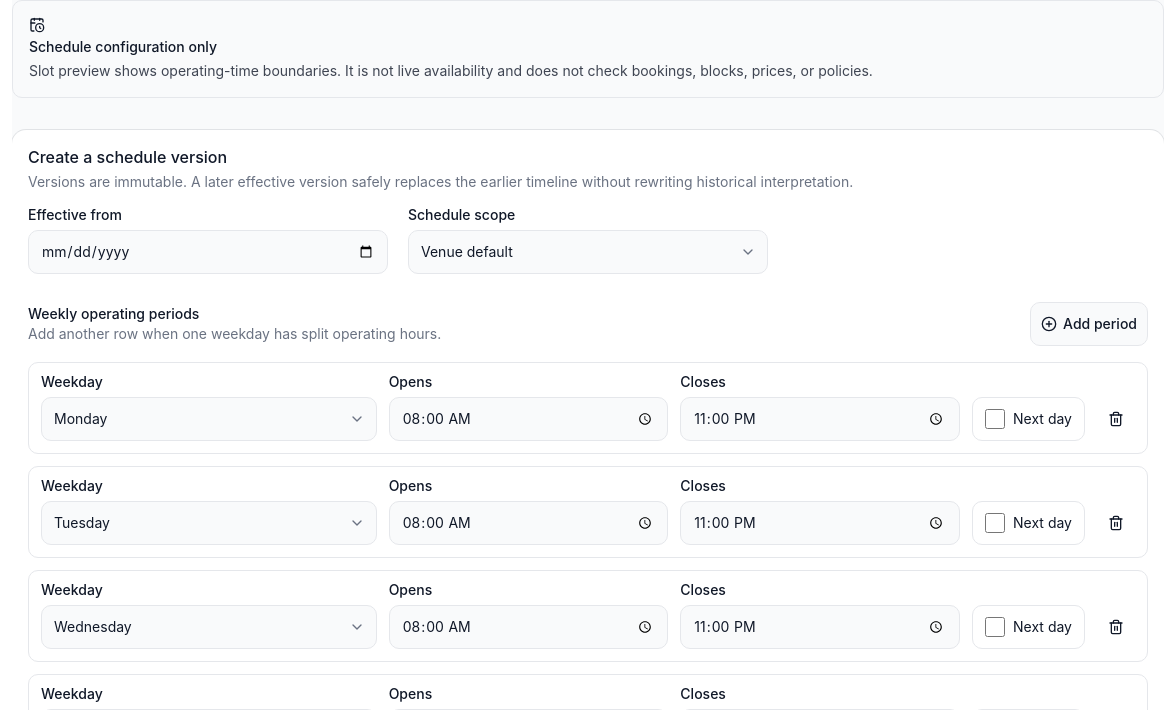
ScheduleSetup › creates an immutable schedule with a closed exception and visible result
Step 1. Type "2026-07-27" into the date field labelled "Effective from" → [208, 252], box [28,230,388,274]
(page scrolled)
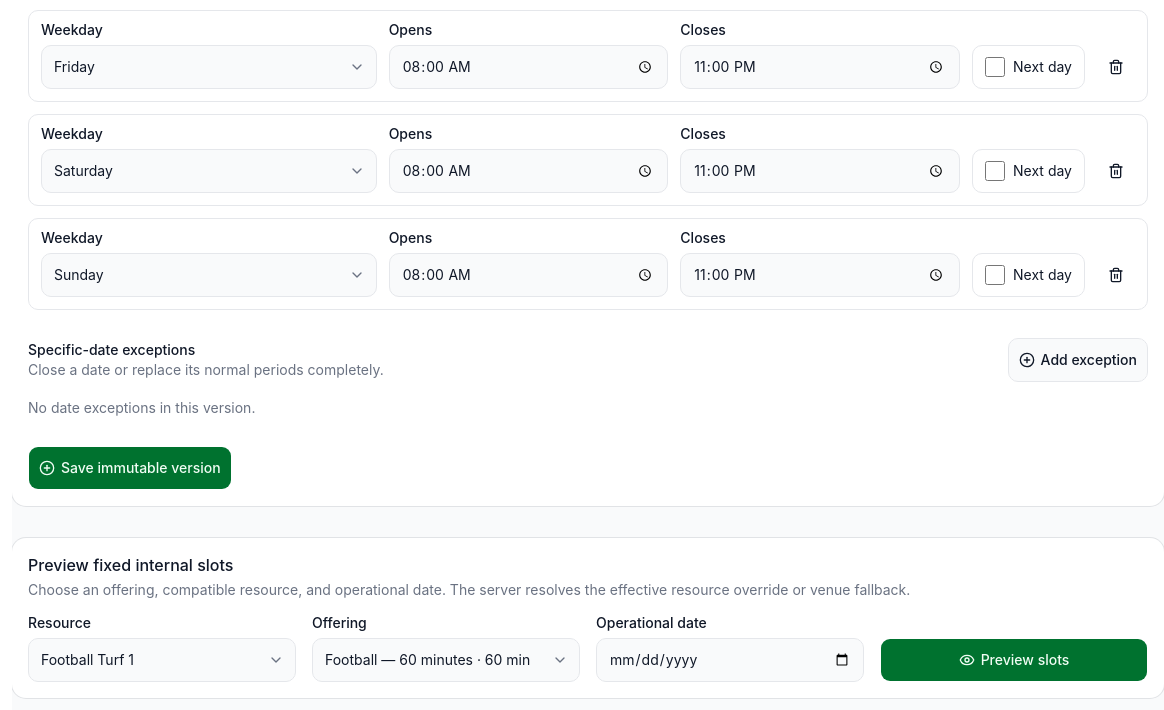
Step 2. Click the button "Add exception" → [1078, 360], box [1008,338,1148,382]
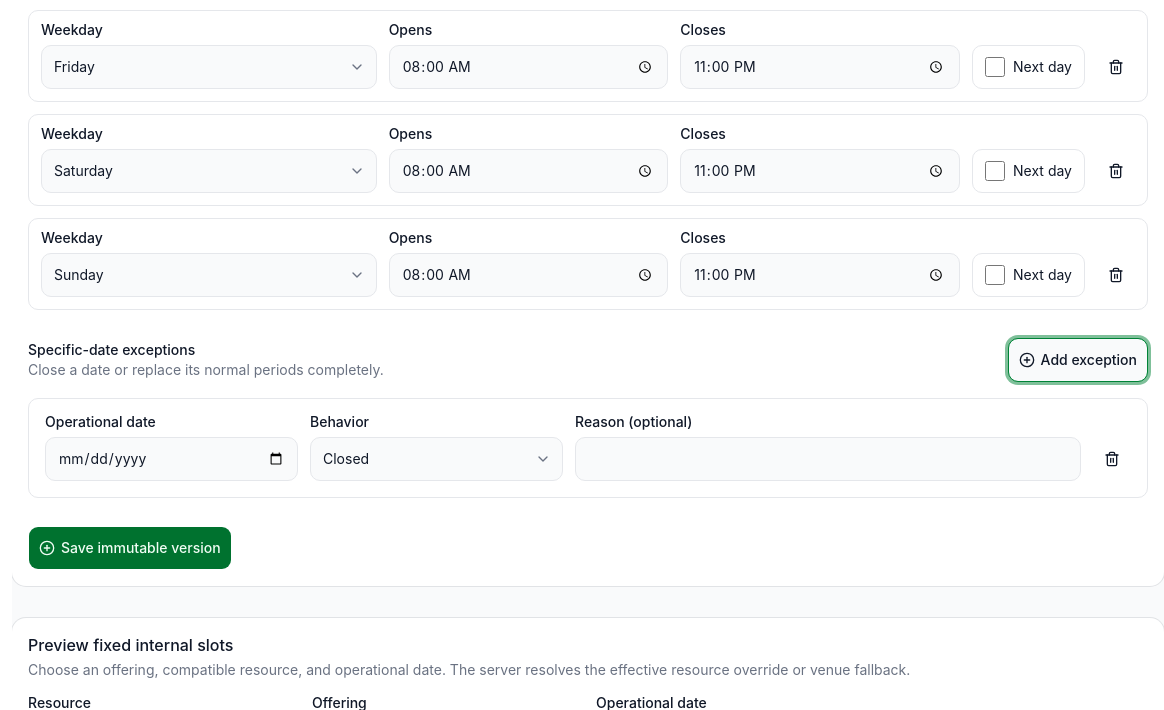
Step 3. Type "2026-07-28" into the date field labelled "Operational date" below "Behavior" → [172, 459], box [45,437,298,481]
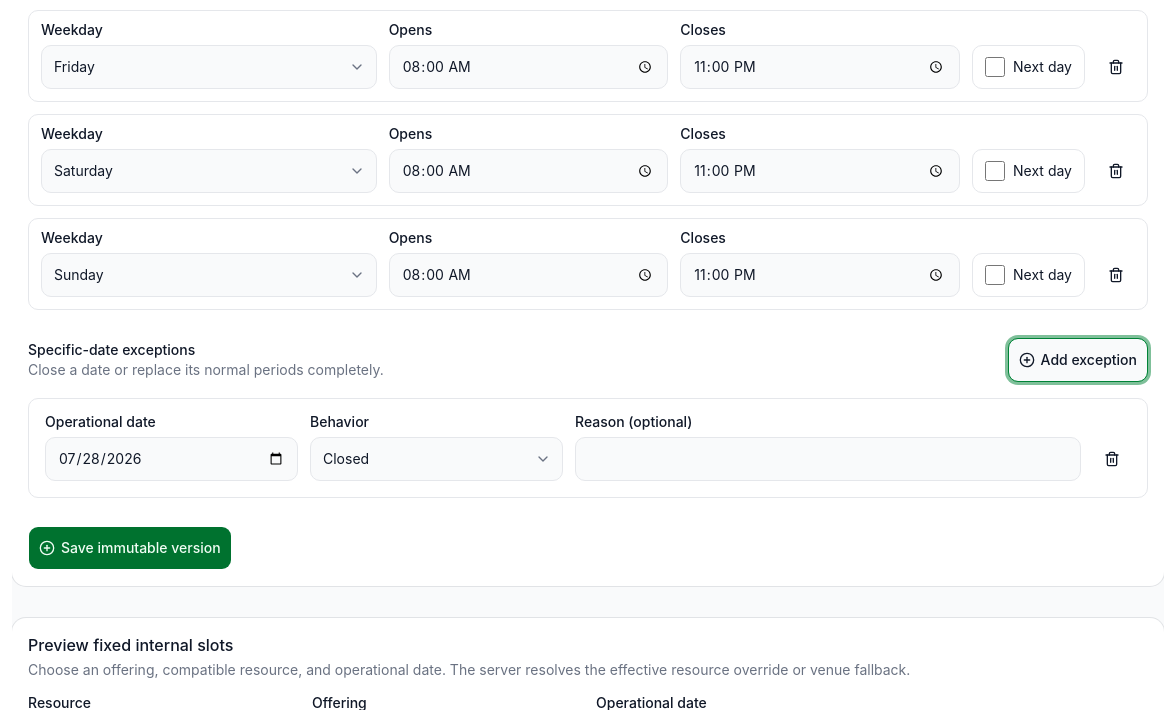
Step 4. Type "Private event" into the field labelled "Reason (optional)" → [828, 459], box [575,437,1081,481]
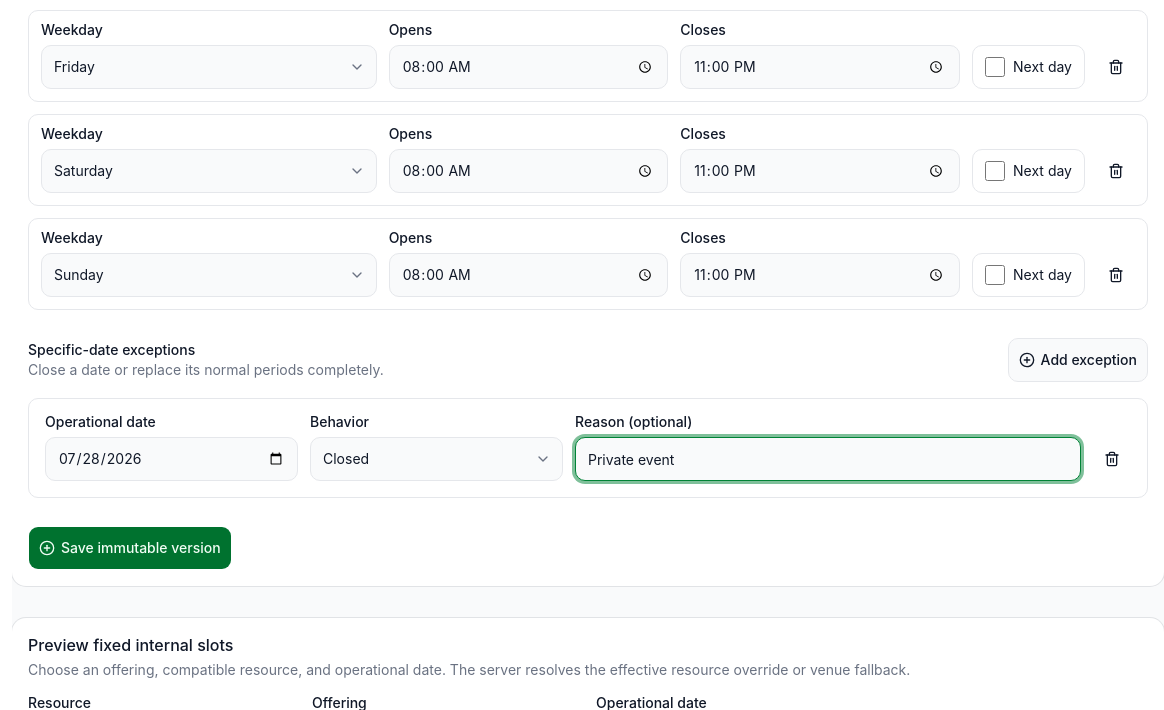
Step 5. Click the button "Save immutable version" → [130, 548], box [28,526,232,570]
(page scrolled)
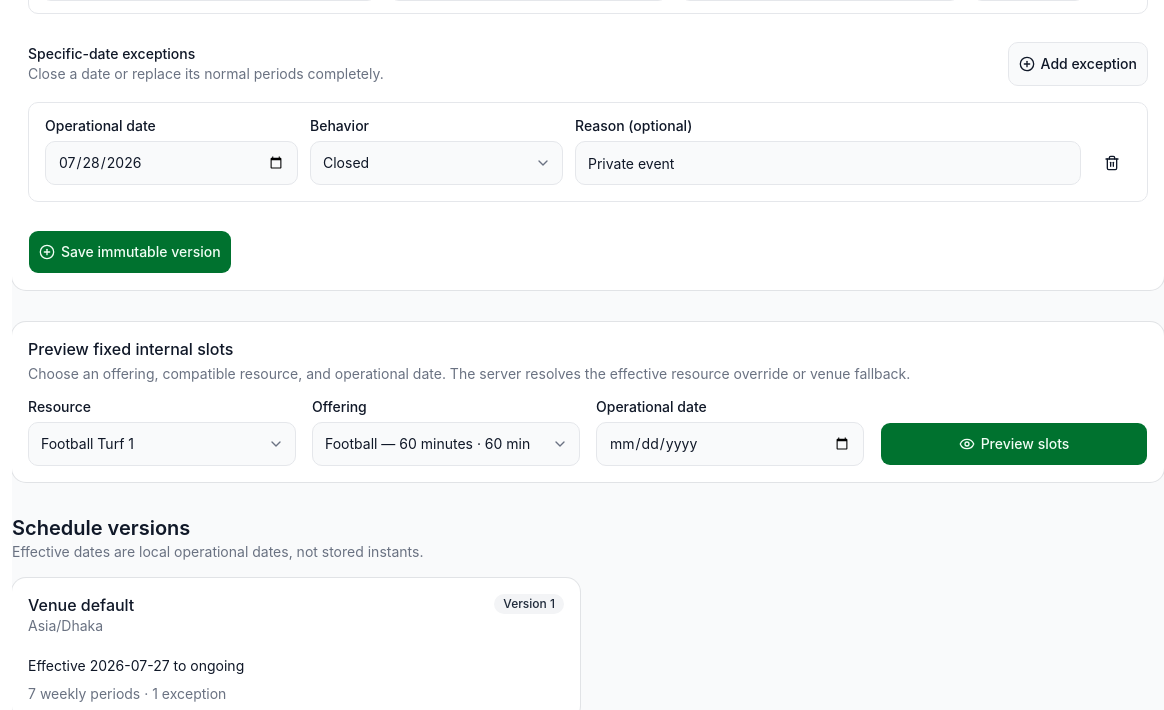
expect the text "Venue default" is shown: met, box [28,594,134,616]
